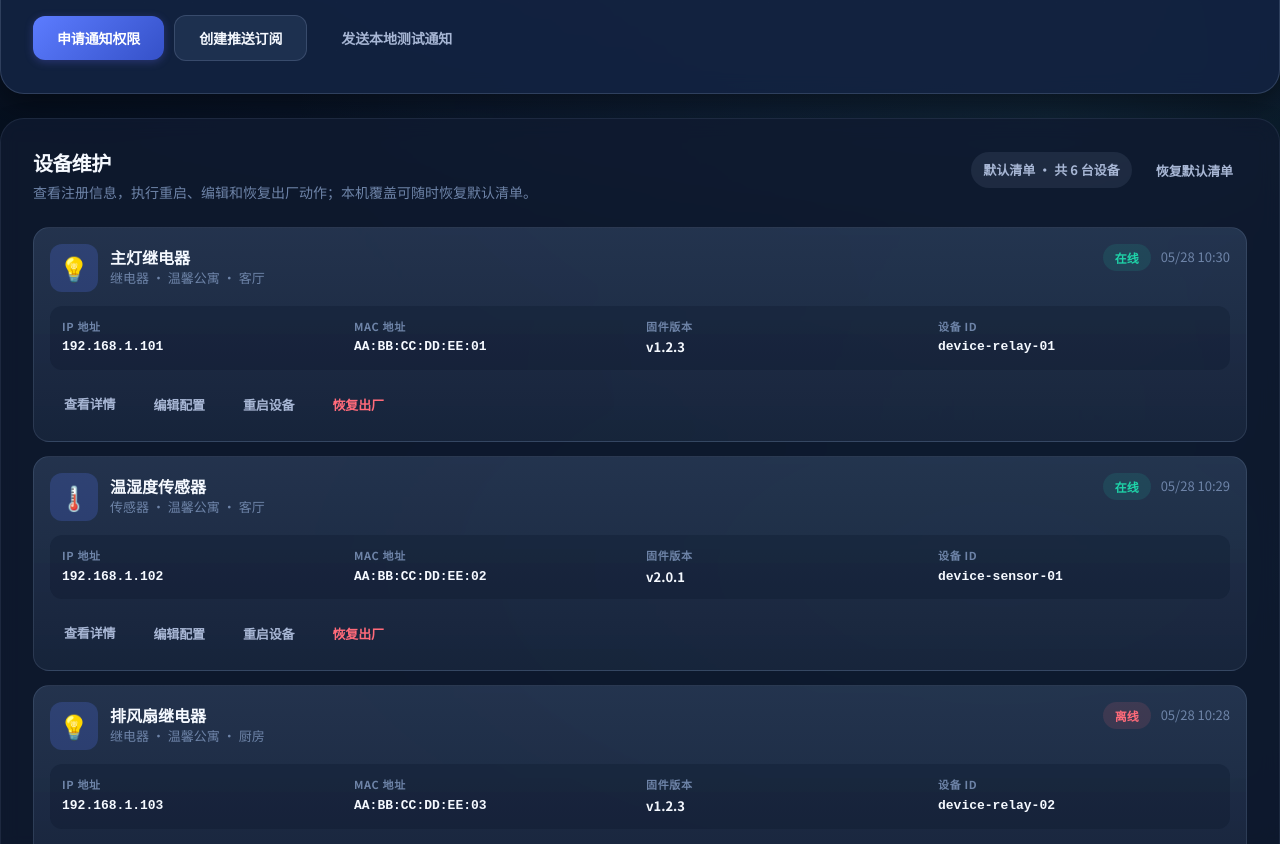
Test: SettingsPage › clears local device maintenance overrides back to seed devices
This screenshot has width=1280, height=844.
(page scrolled)
Check: the button "恢复默认清单" is disabled, box 1142,150 -> 1247,190
Click the button "编辑配置" below "192.168.1.101": (179, 405) 140,385 -> 219,424
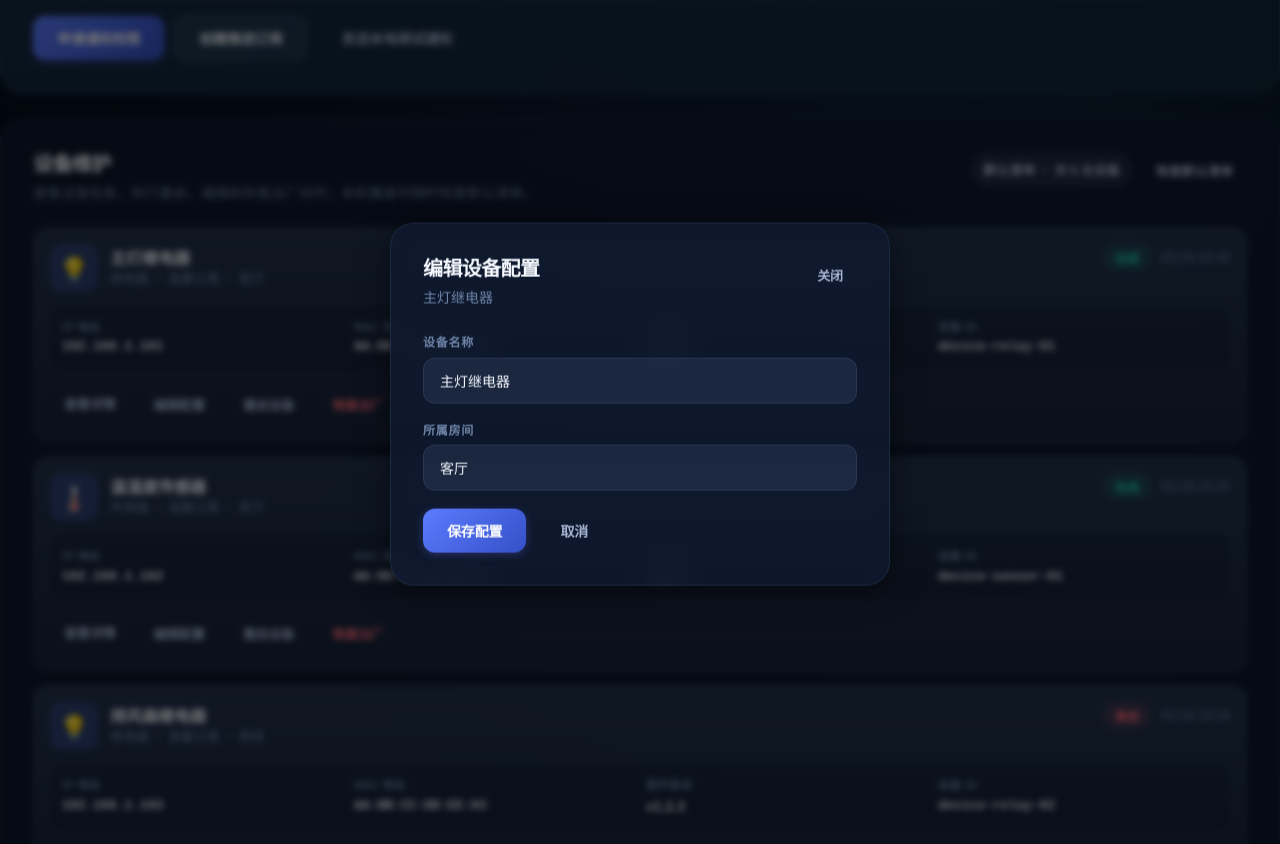
Replace the text in the field labelled "设备名称" with "主灯继电器 Pro": (640, 380) 423,357 -> 857,403
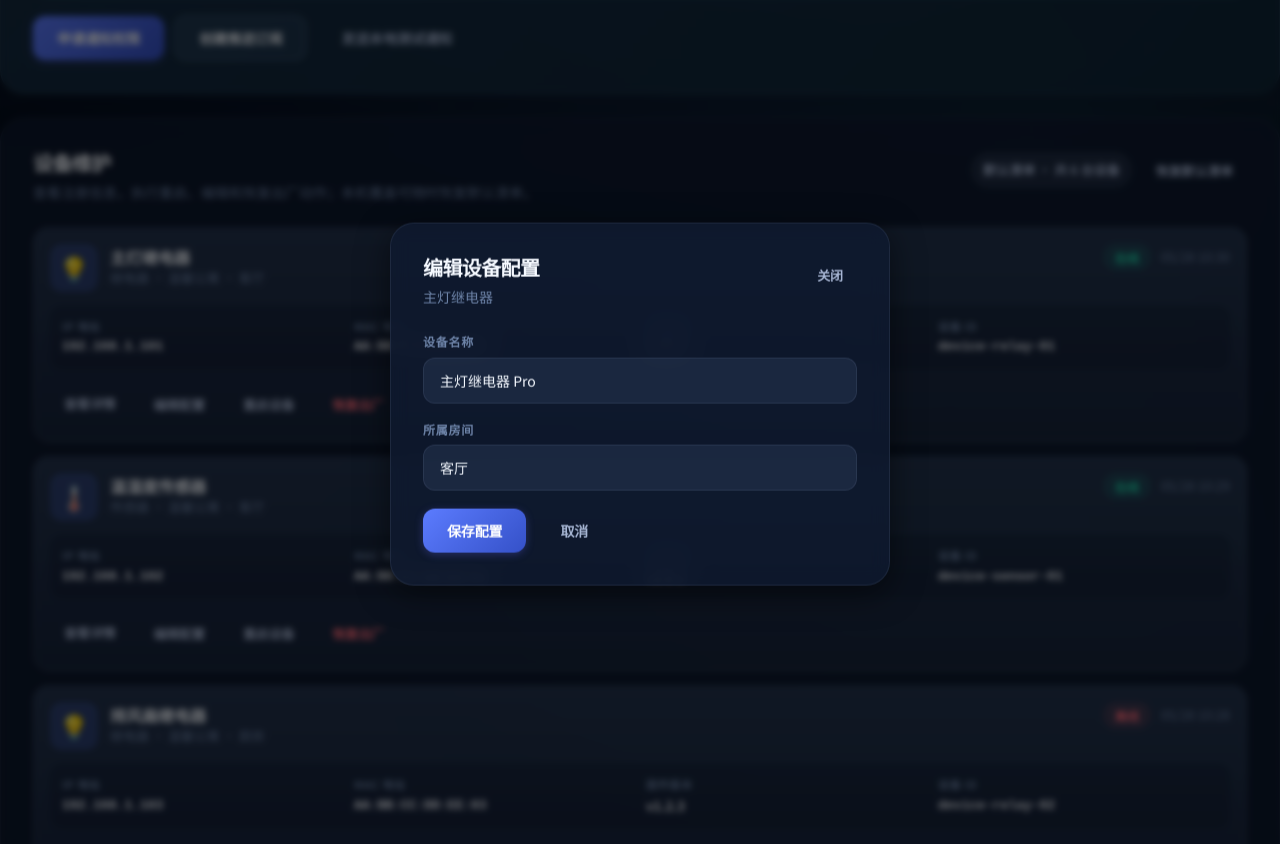
Click the button "保存配置": (475, 530) 423,508 -> 526,552
(page scrolled)
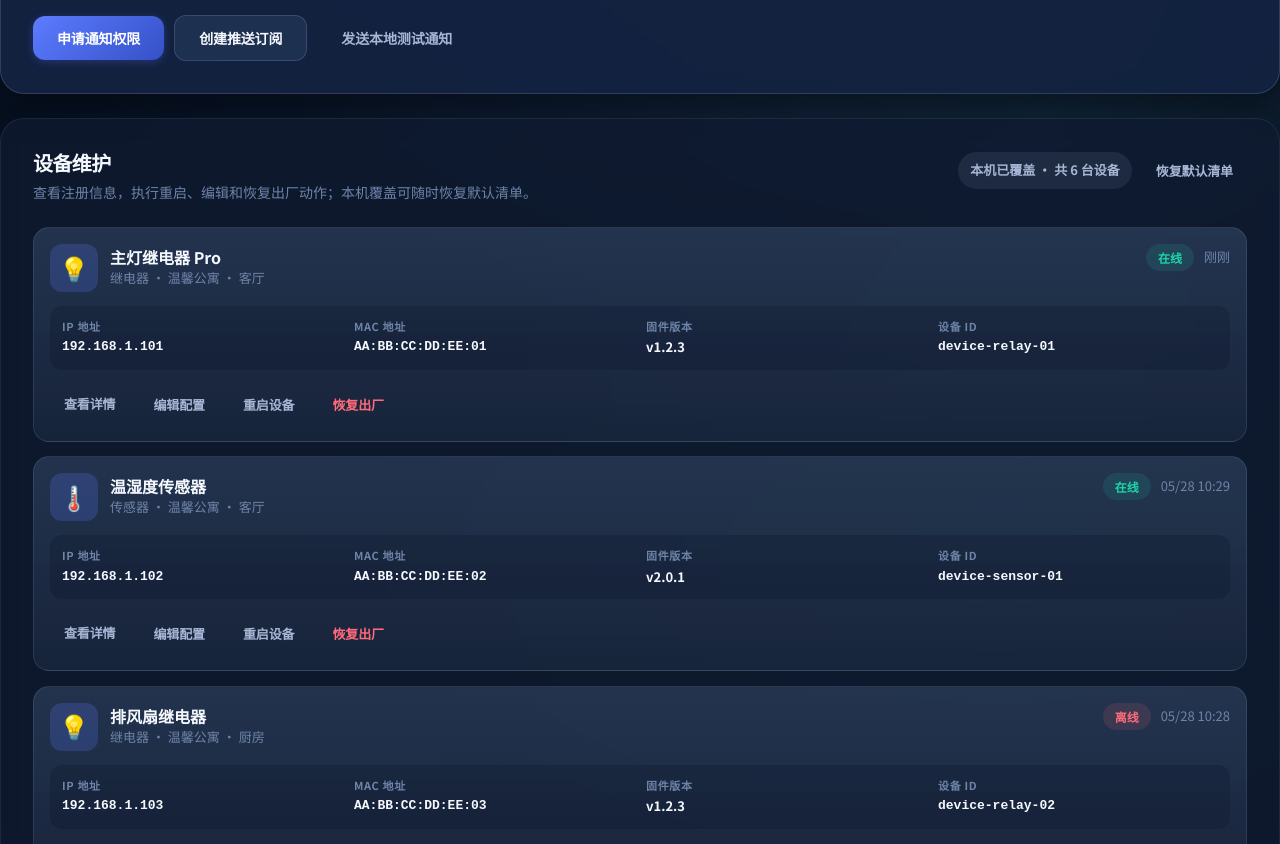
Check: the button "恢复默认清单" is enabled
Click the button "恢复默认清单": (1194, 170) 1142,151 -> 1247,190
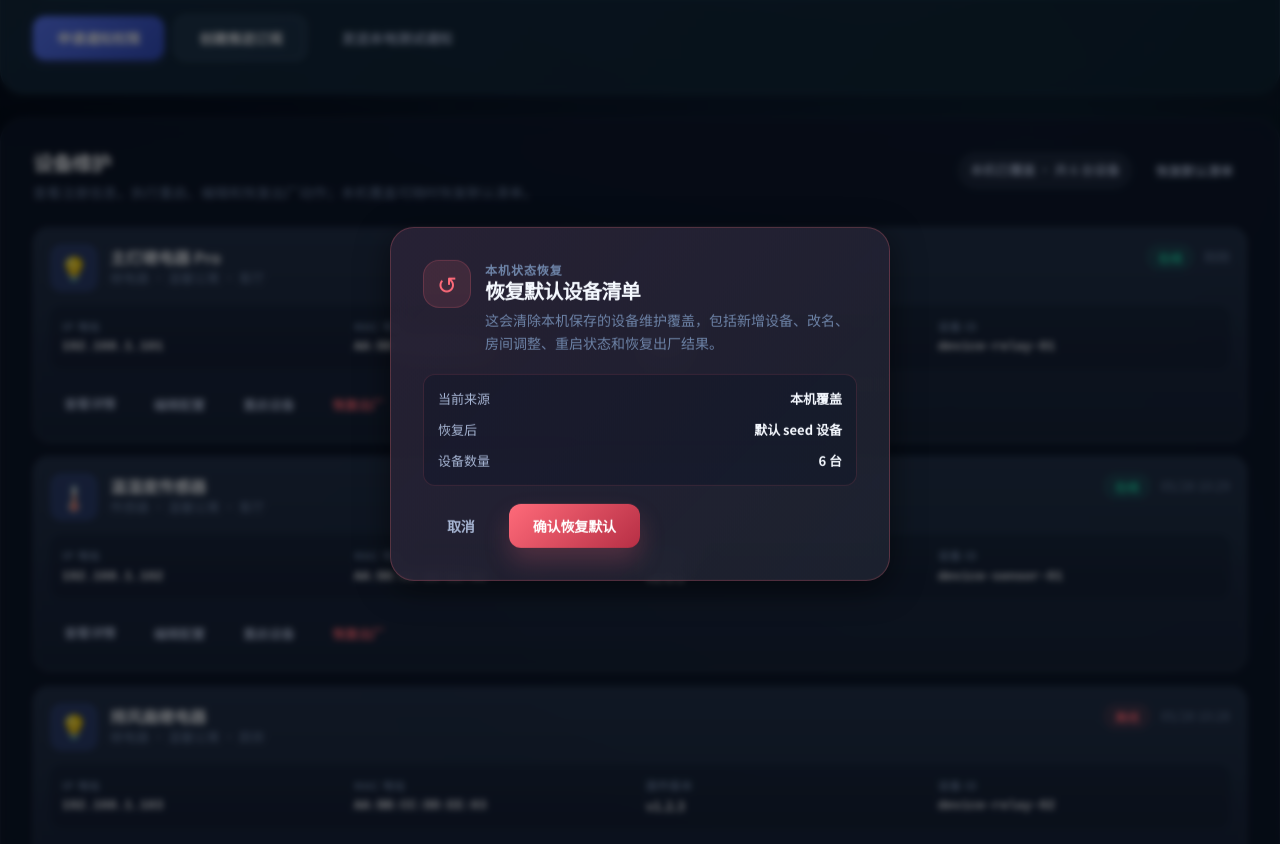
Check: the text "当前来源" is shown, box 438,389 -> 490,410
Check: the text "本机覆盖" is shown, box 790,389 -> 842,410
Click the button "确认恢复默认": (574, 526) 509,504 -> 640,548
(page scrolled)
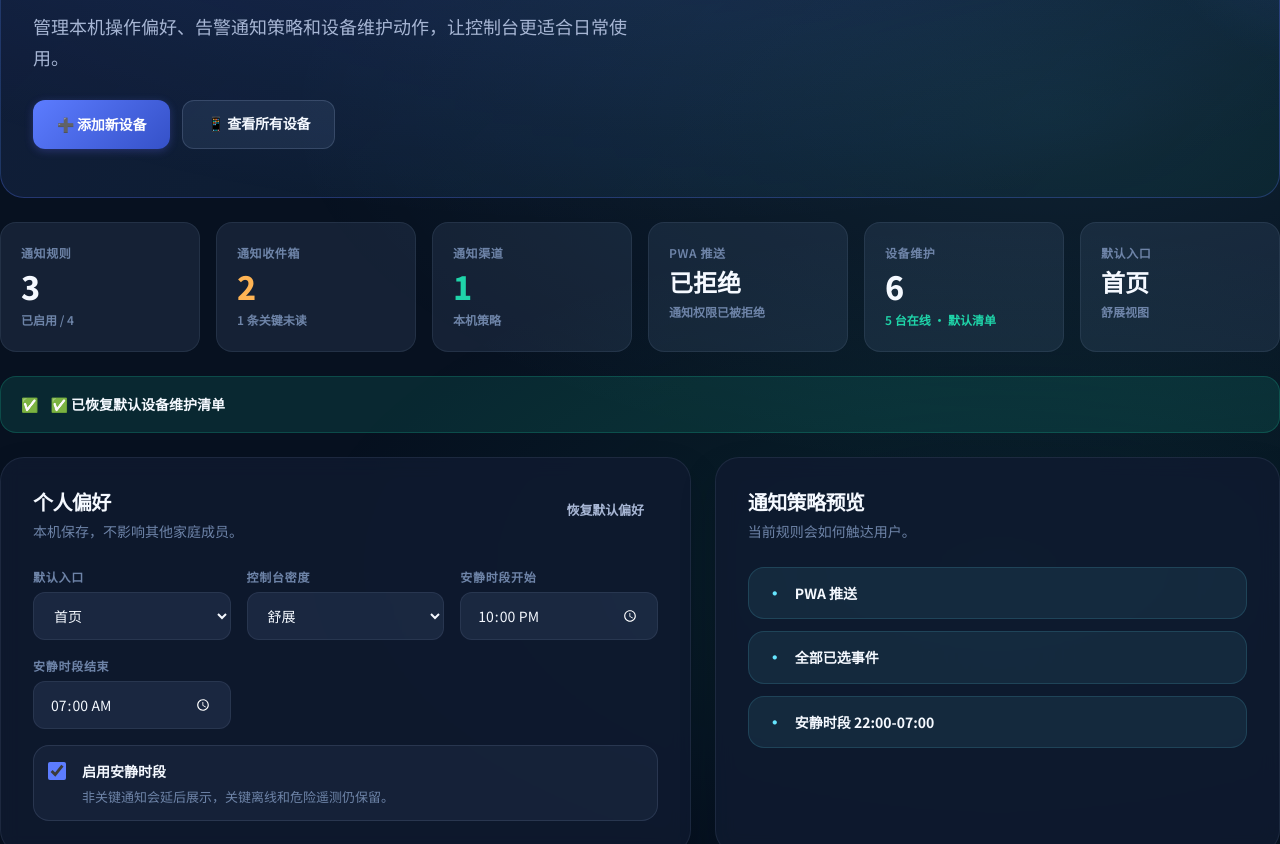
Check: the heading "恢复默认设备清单" is gone
Check: the heading "主灯继电器 Pro" is gone
Check: the message shows "已恢复默认设备维护清单", box 50,394 -> 225,414
